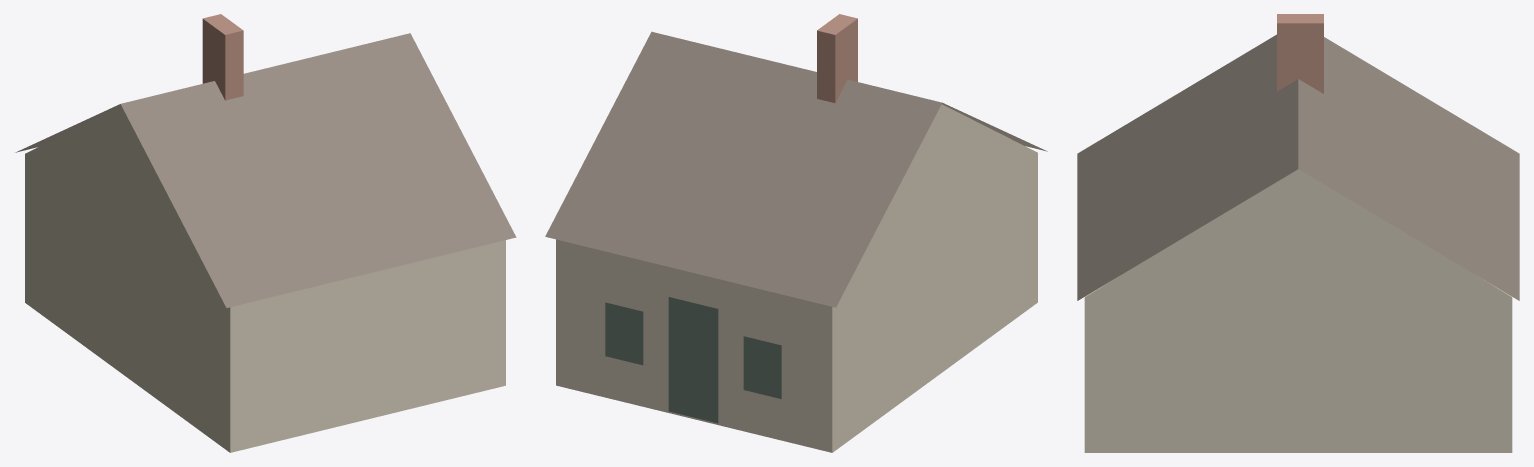
The model's file is recon_1835_south_d3_013__recommended_1835.glb.
The picture shows the model from 3 angles, left to right: view 1: azimuth 30°, elevation 25°; view 2: azimuth 150°, elevation 25°; view 3: azimuth 270°, elevation 25°; orthographic projection. The views are drawn at different scales.
Parts seen in each view (by area): view 1: recon_1835_south_d3_013__recommended_1835; view 2: recon_1835_south_d3_013__recommended_1835; view 3: recon_1835_south_d3_013__recommended_1835.
Part boxes in pixels (x1,y1,x2,y2): recon_1835_south_d3_013__recommended_1835: (15, 14, 516, 452); recon_1835_south_d3_013__recommended_1835: (545, 14, 1047, 452); recon_1835_south_d3_013__recommended_1835: (1077, 14, 1519, 452).
Bounding box in the file's own units: 5.66 × 6.14 × 7.17.
